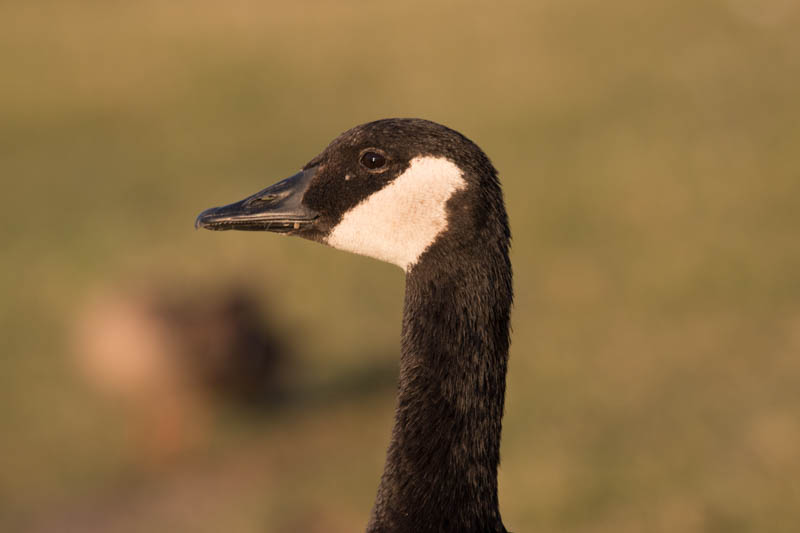goose-head: (194, 117, 511, 272)
